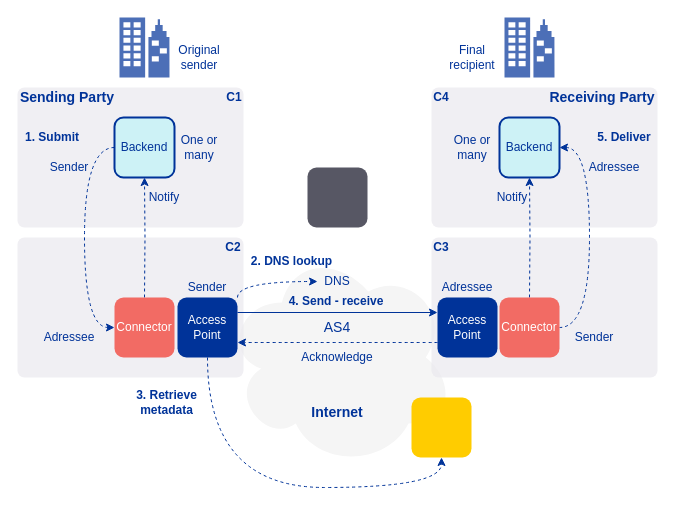
Some shapes in this 676 by 505 pixel diagram are drawn without their labels. The shapes that lost their labels are listed below. From the top down, each one's box as (x1, y1, x2, y2) in pixels, then its label:
(307, 167, 367, 227): SML ( centralized )
(411, 397, 471, 457): SMP
